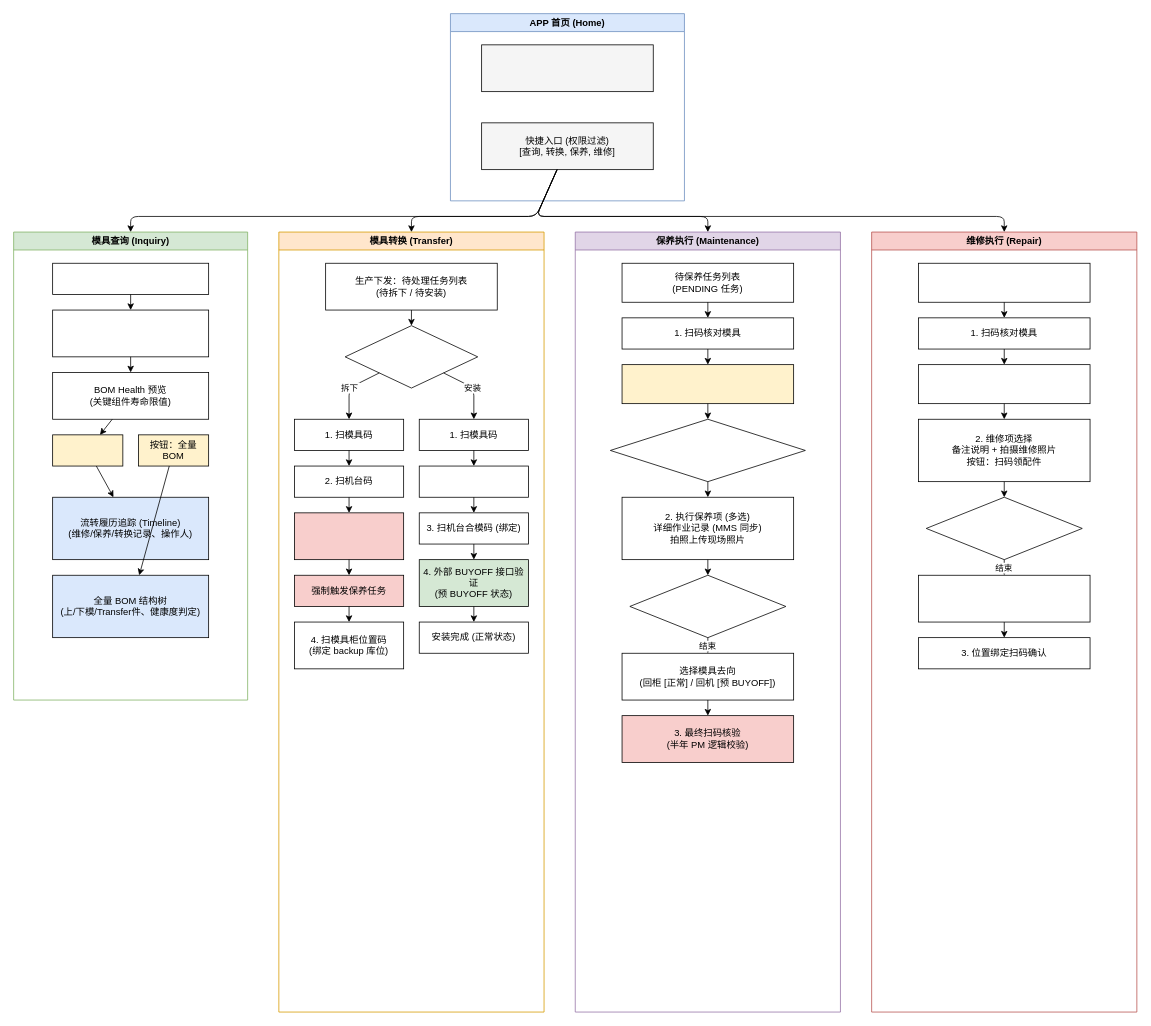
Some shapes in this 1151 by 1026 pixel diagram are drawn without their labels. Here are the shapes that lost their labels. From the top down, the box of each, then its label:
(481, 44, 653, 92): 数据概览卡片 (在线模具、待处理任务)
(52, 262, 209, 294): 搜索 ID / 名称
(918, 262, 1090, 302): 待维修任务列表 (报修 PENDING)
(52, 309, 209, 357): 模具卡片列表 (状态、位置、Package、Shot)
(344, 325, 478, 388): 选择作业类型
(621, 364, 794, 404): 系统自动检测取模位置 (柜体 / 机台)
(918, 364, 1090, 404): 取模位置检测 (柜/机) + 机台生产判定
(52, 434, 123, 466): 按钮：流转历史
(610, 418, 805, 482): 机台拆卸：设备生产能力判定 (还机 / 借机流程)
(418, 465, 528, 497): 2. 扫模具柜码 (解绑)
(294, 512, 404, 560): 3. 确认/同步末次 Shot Count (数据集成 Socket/API)
(925, 496, 1082, 560): 作业是否结束？ (否：保留维修中状态)
(629, 574, 786, 638): 作业是否彻底结束？
(918, 574, 1090, 622): 去向选择 (回柜 [待 BUYOFF] / 回机 [预 BUYOFF])
